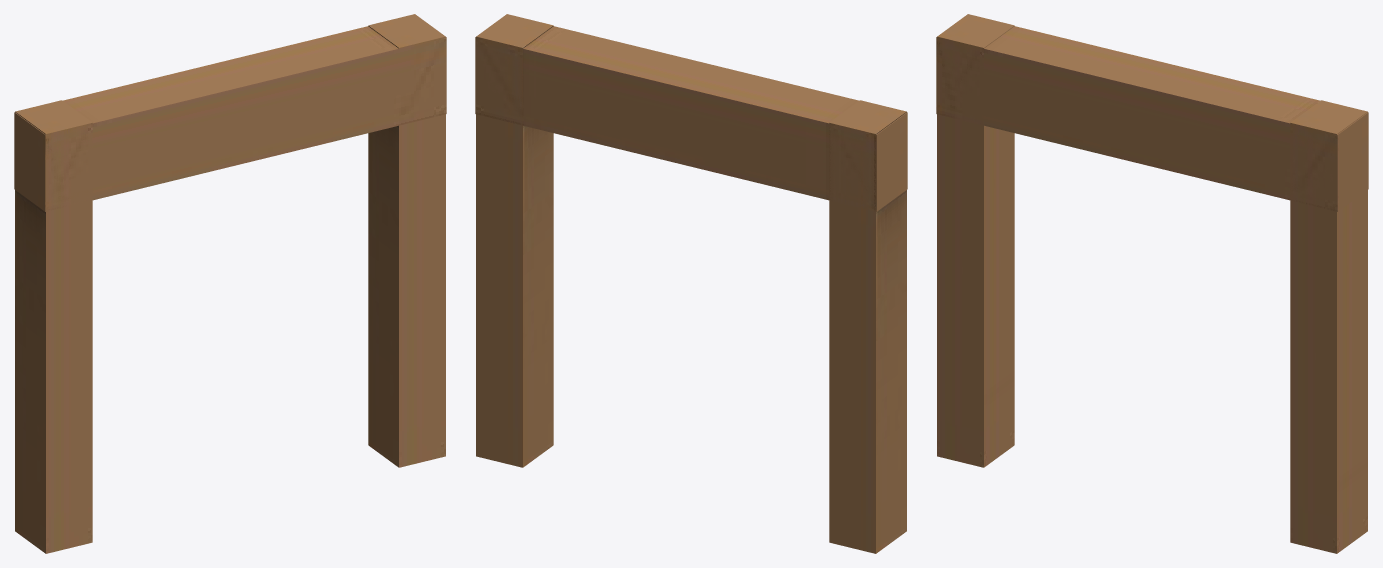
The model's file is BD_doorway.glb.
The picture shows the model from 3 angles, left to right: view 1: azimuth 30°, elevation 25°; view 2: azimuth 150°, elevation 25°; view 3: azimuth 330°, elevation 25°; orthographic projection.
Visible parts, largest first — view 1: BD_doorway; view 2: BD_doorway; view 3: BD_doorway.
Boxes of the visible parts, x1,y1,x2,y2 form: BD_doorway: (14,14,446,553); BD_doorway: (475,14,907,553); BD_doorway: (936,14,1368,553).
Size of the model in its own units: 3 by 3 by 0.4.
1 material, 1 textured.
